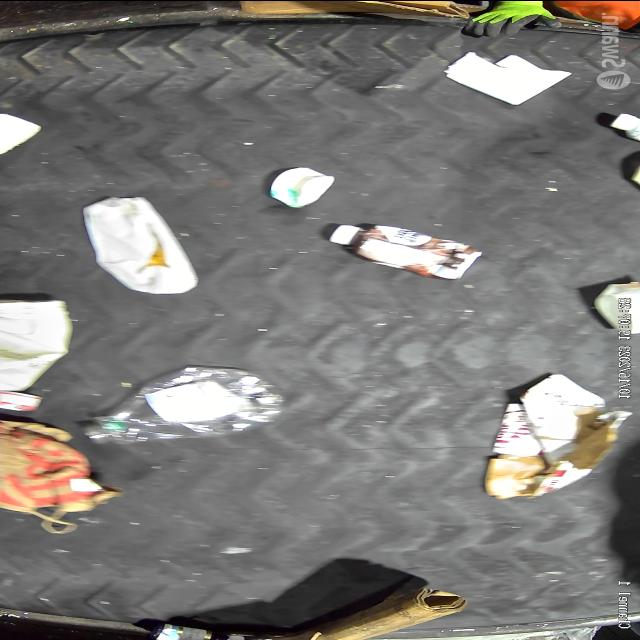can: (1, 389, 46, 412)
milk_jug: (80, 190, 200, 296), (0, 296, 78, 391)
plastic_bottle: (82, 358, 292, 446)
